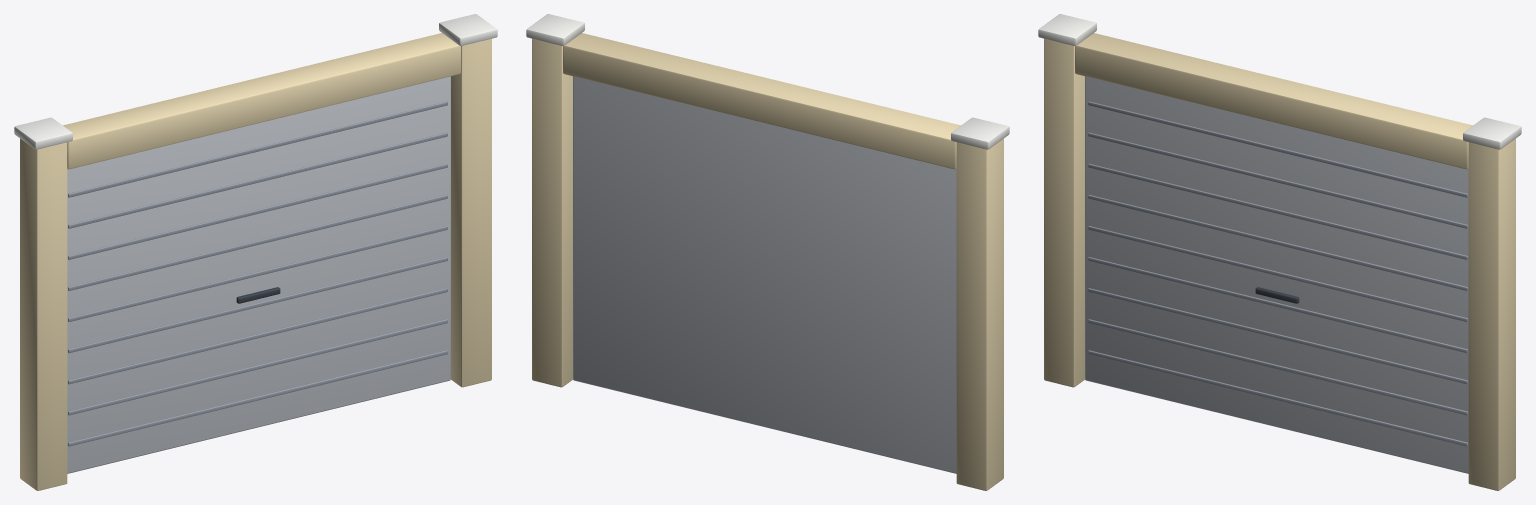
The model's file is portao_garagem_basculante.glb.
3 renders of one model, left to right at view 1: azimuth 30°, elevation 25°; view 2: azimuth 150°, elevation 25°; view 3: azimuth 330°, elevation 25°, orthographic.
Visible parts, largest first — view 1: porta_1, portao_garagem_basculante; view 2: porta_1, portao_garagem_basculante; view 3: porta_1, portao_garagem_basculante.
Part boxes in pixels (x1=…): porta_1: x1=67, y1=76, x2=450, y2=473; portao_garagem_basculante: x1=14, y1=14, x2=497, y2=490; porta_1: x1=573, y1=76, x2=956, y2=473; portao_garagem_basculante: x1=526, y1=14, x2=1009, y2=490; porta_1: x1=1085, y1=76, x2=1468, y2=473; portao_garagem_basculante: x1=1038, y1=14, x2=1521, y2=490.
Size of the model in its own units: 3.27 by 2.38 by 0.27.
Materials: 1 (1 with a texture image).
